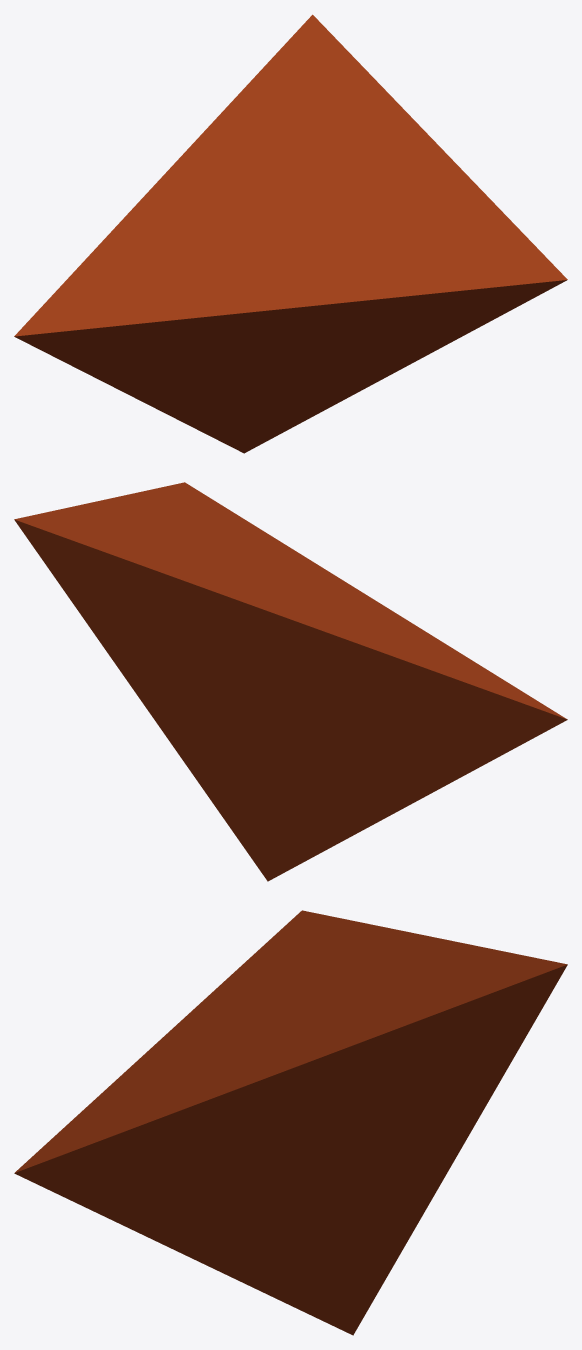
File: Flower_M2_8.fbx
3 views of the same model, one above another, from view 1: azimuth 30°, elevation 25°; view 2: azimuth 150°, elevation 25°; view 3: azimuth 270°, elevation 25° (orthographic). The views are drawn at different scales.
Parts seen in each view (by area): view 1: Flower_M2_8; view 2: Flower_M2_8; view 3: Flower_M2_8.
Boxes of the visible parts, x1,y1,x2,y2 form: Flower_M2_8: (14, 14, 567, 453); Flower_M2_8: (14, 482, 567, 881); Flower_M2_8: (14, 910, 567, 1335).
Bounding box in the file's own units: 8.48 × 6.24 × 6.68.
